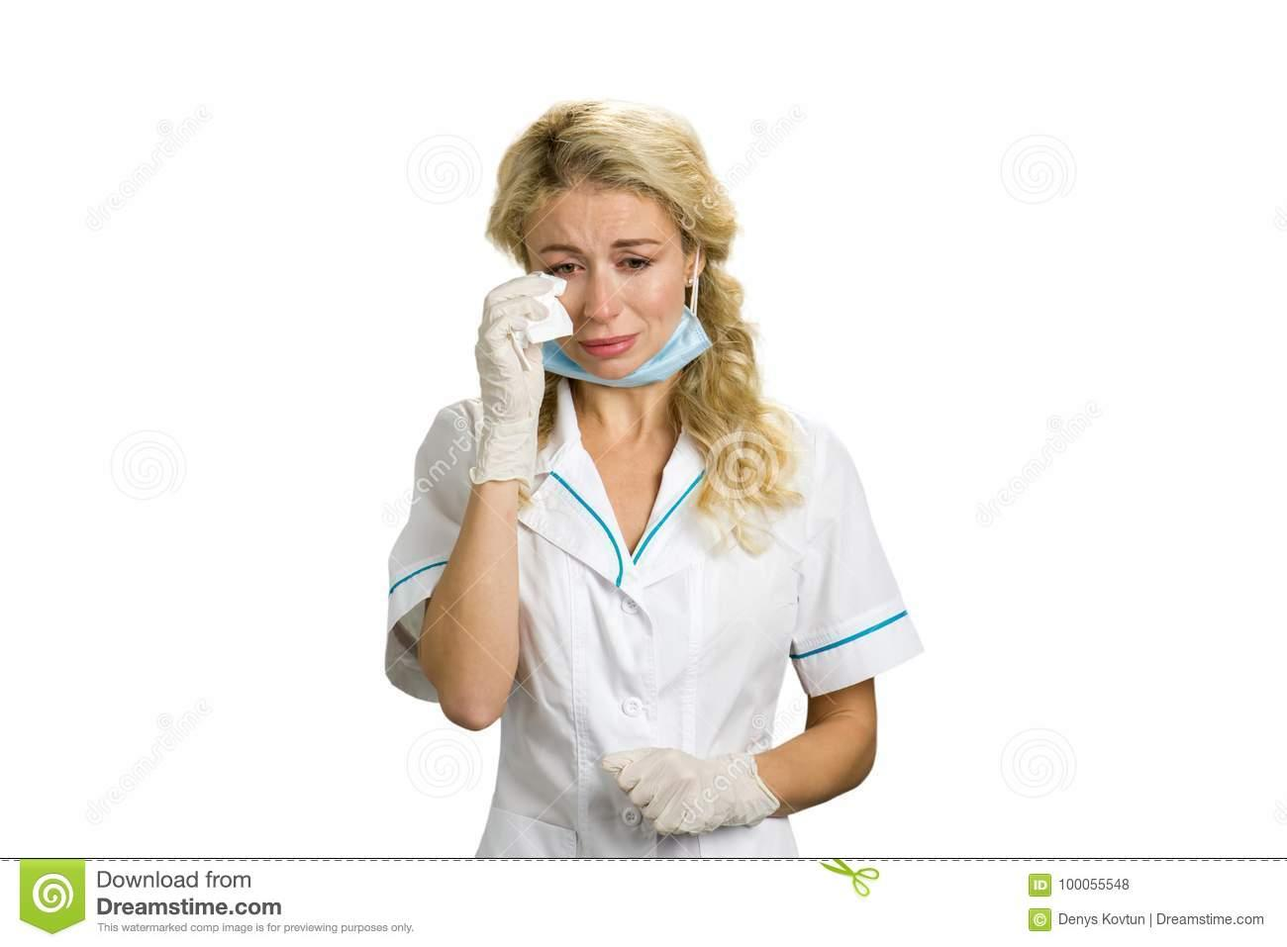Wore Mask Incorrectly: (468, 107, 784, 453)
